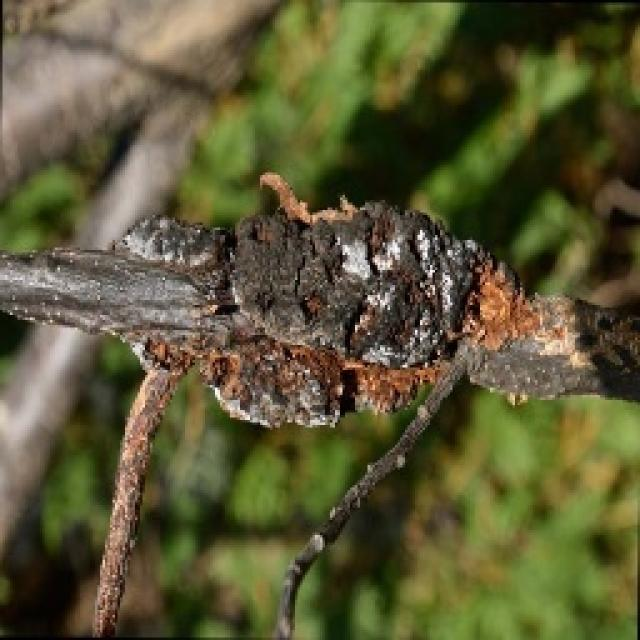Black_knot: (107, 170, 525, 430)
